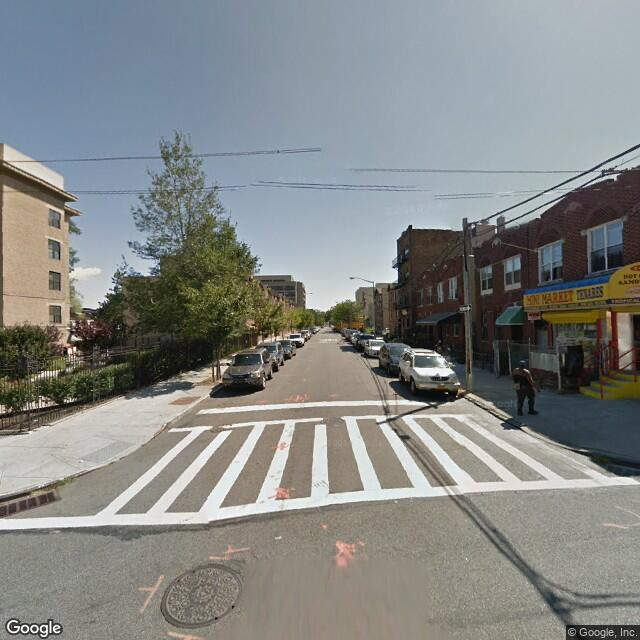litter: (72, 459, 86, 467)
